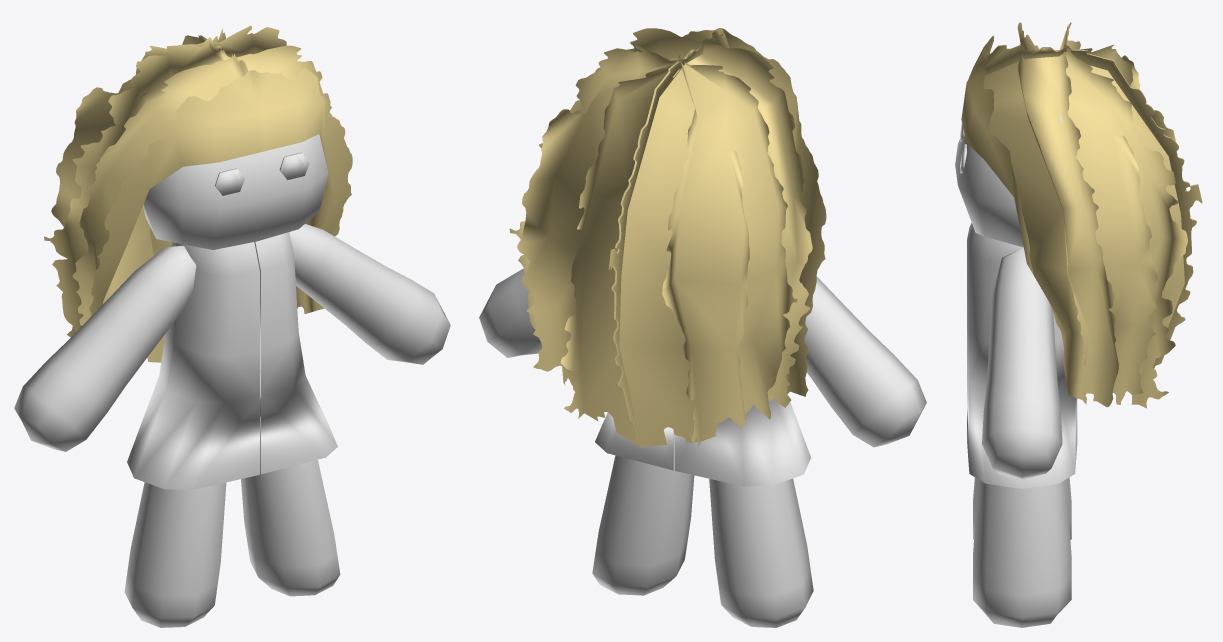
File: Muñeca1.fbx
3 renders of one model, left to right at view 1: azimuth 30°, elevation 25°; view 2: azimuth 150°, elevation 25°; view 3: azimuth 270°, elevation 25°, orthographic. The views are drawn at different scales.
Parts seen in each view (by area): view 1: Cube; view 2: Cube; view 3: Cube.
Boxes of the visible parts, x1=… form: Cube: x1=14, y1=25, x2=450, y2=627; Cube: x1=479, y1=28, x2=926, y2=627; Cube: x1=955, y1=22, x2=1202, y2=627.
Bounding box in the file's own units: 6.62 × 8.34 × 3.46.
2 materials, 1 textured.
